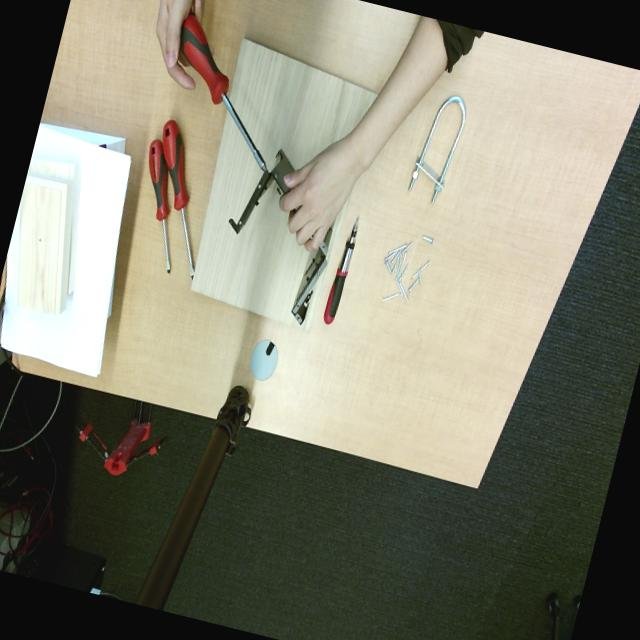screwdriver: (179, 13, 267, 171), (162, 120, 194, 276), (323, 219, 358, 324), (148, 139, 170, 273)
